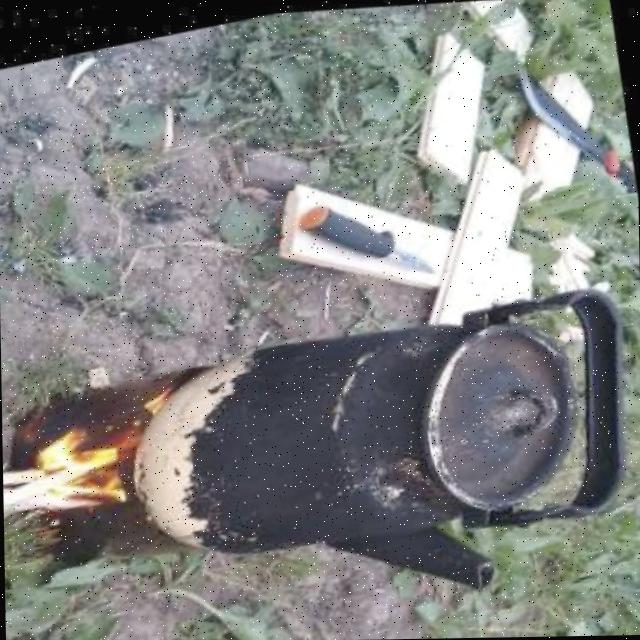fire: (2, 398, 186, 530)
